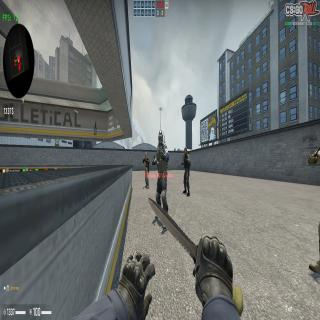CT-Body: (153, 130, 170, 229), (181, 147, 191, 198)
CT-Head: (158, 130, 164, 148), (184, 147, 188, 157)
T-Body: (142, 152, 150, 189)
T-Head: (145, 152, 147, 159)
